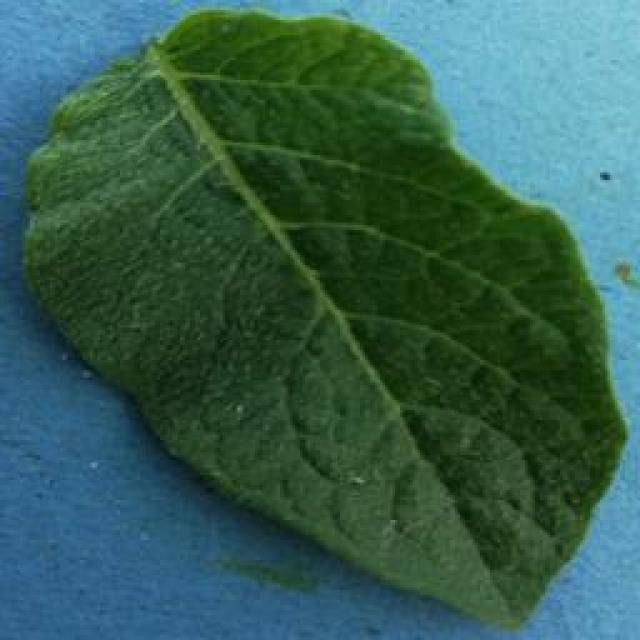Potato_Healthy: (22, 8, 616, 624)
